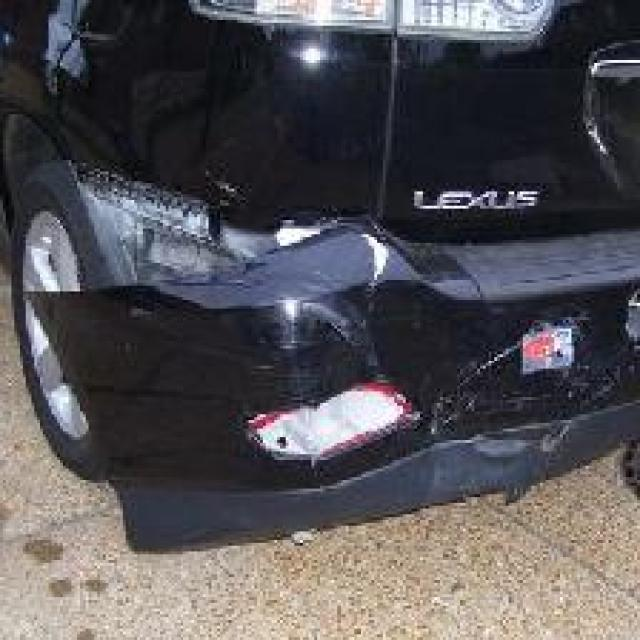bumper_dent_severe: (37, 166, 574, 543)
